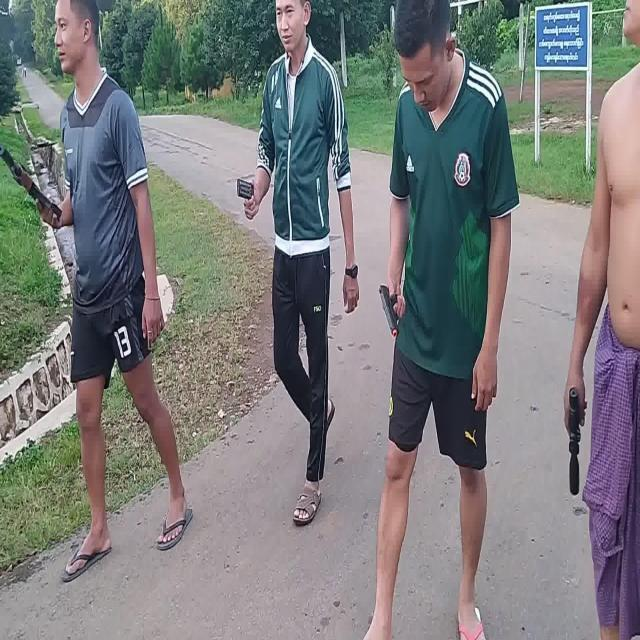gun: (1, 147, 62, 221), (378, 285, 399, 336)
